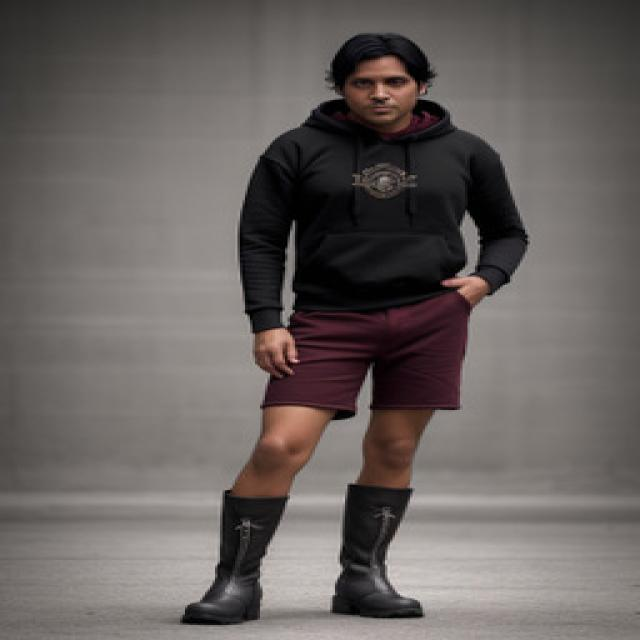Ai human 2: (168, 27, 556, 640)
